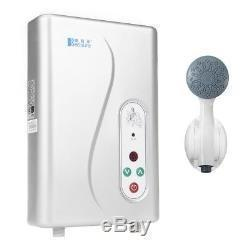Ducha: (174, 39, 236, 181)
